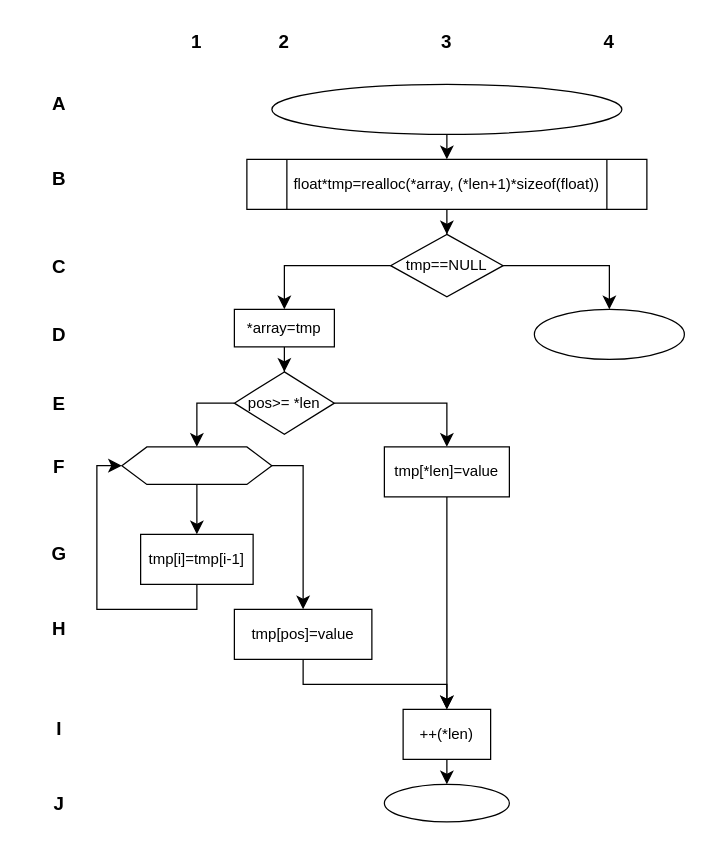
Image size: 706x844. Some labels were removed from this diagram. Here are the shapes that lost their labels. From the top down, the centre of each, then its label:
point 446,108: int insert(float **array, int *len, int pos, float value)
point 608,333: return BAD_ALLOC
point 196,465: i=*len; i>pos; --i
point 446,802: return 1
